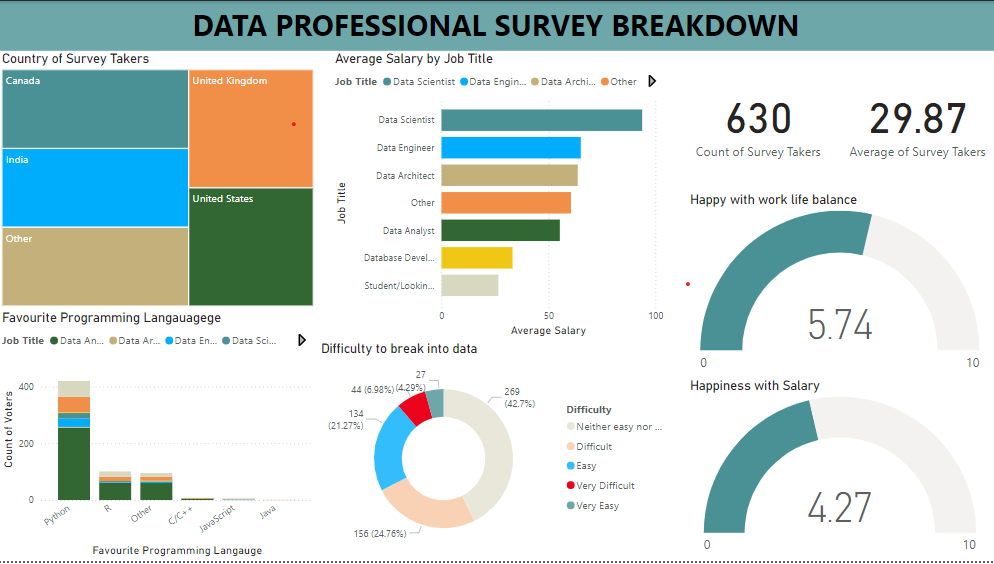

What the dashboard file says about the page in this screenshot:
{"tool":"powerbi","page":{"name":"Page 1","canvas":[1280,720],"ordinal":0},"visuals":[{"type":"textbox","box":[0,0,1280,64.3],"z":0},{"type":"card","fields":{"Values":["CountNonNull(Data Professional Survey.Unique ID)"]},"box":[871.3,64.2,211.6,181],"z":1000},{"type":"card","fields":{"Values":["Avg(Data Professional Survey.Q10 - Current Age)"]},"box":[1083,64.2,197,181],"z":2000},{"type":"barChart","title":"Average Salary by Job Title","fields":{"Category":["Data Professional Survey.Q1 - Which Title Best Fits your Current Role?.1"],"Y":["Avg(Data Professional Survey.Average Salary)"],"Series":["Data Professional Survey.Q1 - Which Title Best Fits your Current Role?.1"]},"box":[427.6,64.2,432,372.2],"z":3000},{"type":"columnChart","title":"Favourite Programming Langauagege","fields":{"Category":["Data Professional Survey.Q5 - Favorite Programming Language.1"],"Y":["CountNonNull(Data Professional Survey.Unique ID)"],"Series":["Data Professional Survey.Q1 - Which Title Best Fits your Current Role?.1"]},"box":[0,397,410.1,322.6],"z":4000},{"type":"treemap","title":"Country of Survey Takers","fields":{"Group":["Data Professional Survey.Q11 - Which Country do you live in?.1"],"Values":["Count(Data Professional Survey.Q11 - Which Country do you live in?.1)"]},"box":[0,64.2,410.1,332.8],"z":5000},{"type":"gauge","title":"Happiness with Salary ","fields":{"Y":["Avg(Data Professional Survey.Q6 - How Happy are you in your Current Position with the following? (Salary))"],"MinValue":["Min(Data Professional Survey.Q6 - How Happy are you in your Current Position with the following? (Salary))"],"MaxValue":["Max(Data Professional Survey.Q6 - How Happy are you in your Current Position with the following? (Salary))"]},"box":[884.5,484.6,395.5,235],"z":6000},{"type":"gauge","title":"Happy with work life balance","fields":{"Y":["Avg(Data Professional Survey.Q6 - How Happy are you in your Current Position with the following? (Work/Life Balance))"],"MinValue":["Min(Data Professional Survey.Q6 - How Happy are you in your Current Position with the following? (Work/Life Balance))1"],"MaxValue":["Max(Data Professional Survey.Q6 - How Happy are you in your Current Position with the following? (Work/Life Balance))2"]},"box":[884.5,245.2,395.5,239.4],"z":7000},{"type":"donutChart","title":"Difficulty to break into data","fields":{"Category":["Data Professional Survey.Q7 - How difficult was it for you to break into Data?"],"Y":["CountNonNull(Data Professional Survey.Q7 - How difficult was it for you to break into Data?)"]},"box":[410.1,436.4,461.2,283.1],"z":8000}]}

Visuals, with their boxes in screenshot pixels (x1, y1, x2, y2), scaled from the page's 1280x720 canvas onto the 994x564 screenshot:
textbox: x1=0, y1=0, x2=993, y2=50
card - CountNonNull(Data Professional Survey.Unique ID): x1=677, y1=50, x2=841, y2=192
card - Avg(Data Professional Survey.Q10 - Current Age): x1=841, y1=50, x2=993, y2=192
"Average Salary by Job Title" barChart: x1=332, y1=50, x2=668, y2=342
"Favourite Programming Langauagege" columnChart: x1=0, y1=311, x2=318, y2=563
"Country of Survey Takers" treemap: x1=0, y1=50, x2=318, y2=311
"Happiness with Salary " gauge: x1=687, y1=380, x2=993, y2=563
"Happy with work life balance" gauge: x1=687, y1=192, x2=993, y2=380
"Difficulty to break into data" donutChart: x1=318, y1=342, x2=677, y2=563
